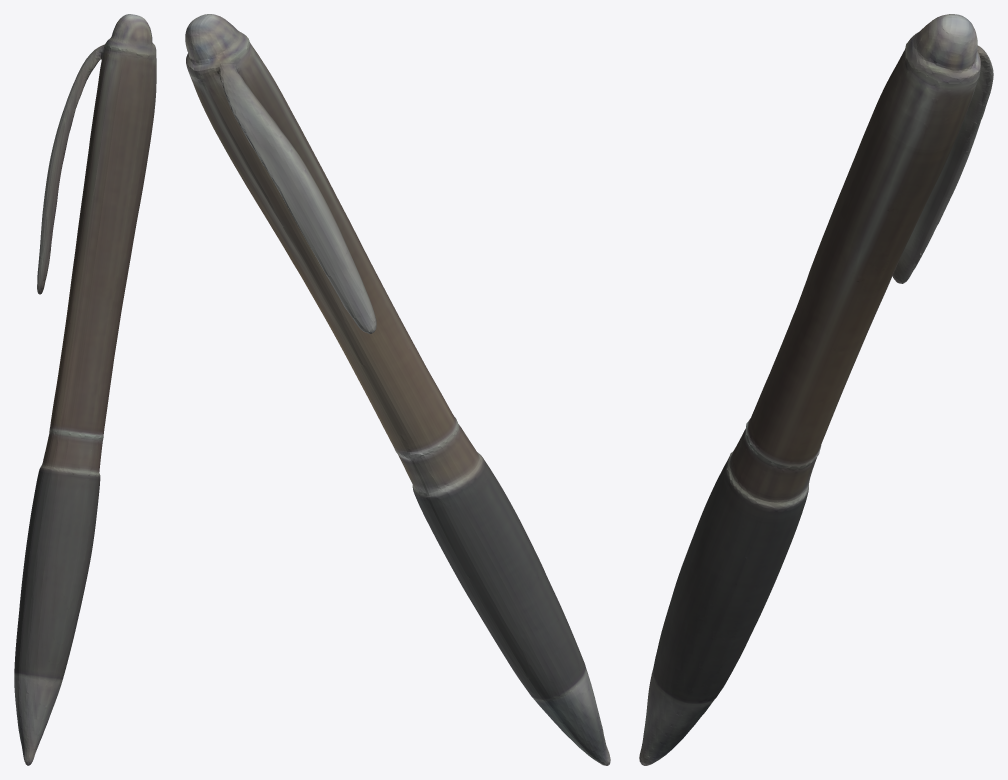
File: frame_0054_source_000054_object.glb
3 views of the same model, side by side, from view 1: azimuth 30°, elevation 25°; view 2: azimuth 150°, elevation 25°; view 3: azimuth 270°, elevation 25° (orthographic). The views are drawn at different scales.
Visible parts, largest first — view 1: world; view 2: world; view 3: world.
Boxes of the visible parts, <box> form: world: <box>14,14,156,765</box>; world: <box>185,14,610,765</box>; world: <box>639,14,993,765</box>.
Size of the model in its own units: 0.0673 by 0.1734 by 0.0621.
